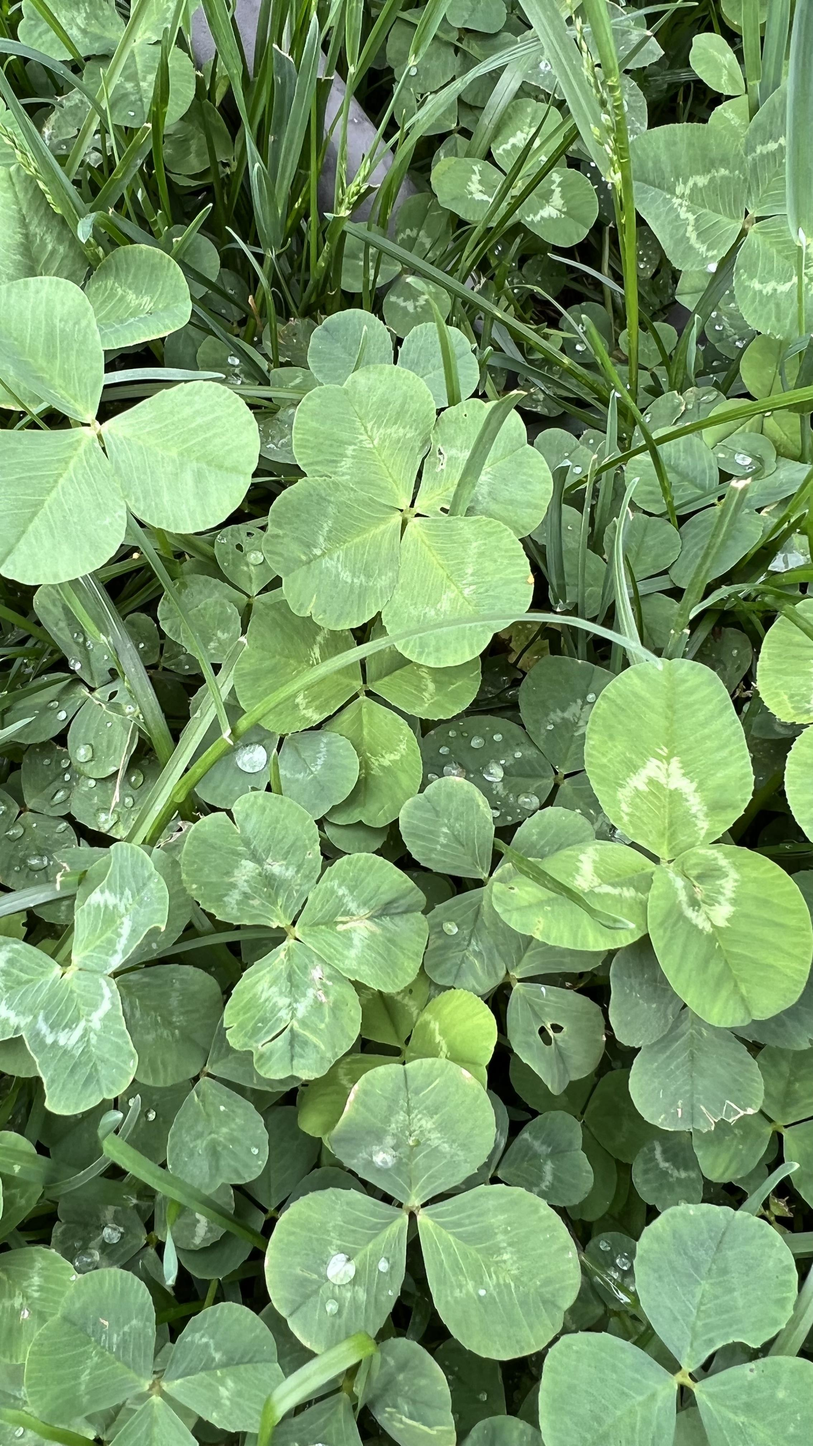4-Leaf-Clovers: (271, 366, 548, 663)
